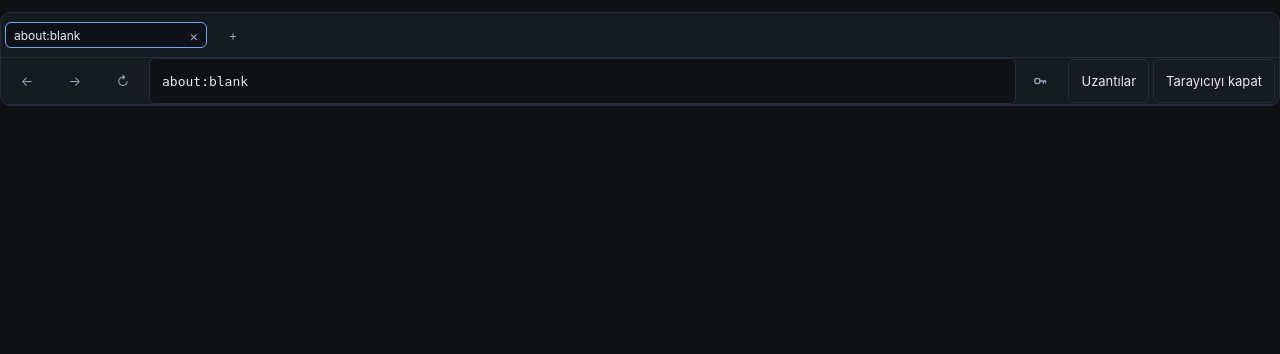
Scenario: BrowserPanel: Uzantılar › Kaldır removes one
Click the button "Uzantılar": coordinates (1109, 81) [1068,59,1149,103]
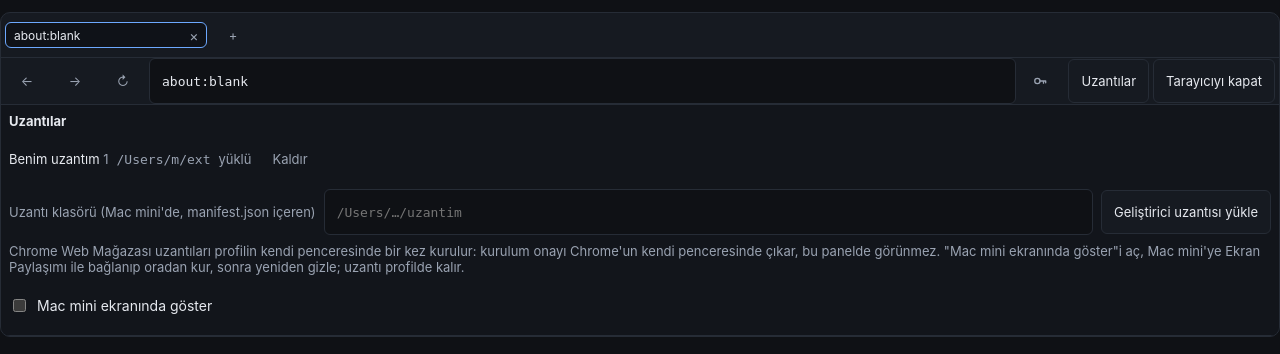
Click the button with aria-label "Kaldır: Benim uzantım": coordinates (290, 159) [259,137,321,181]
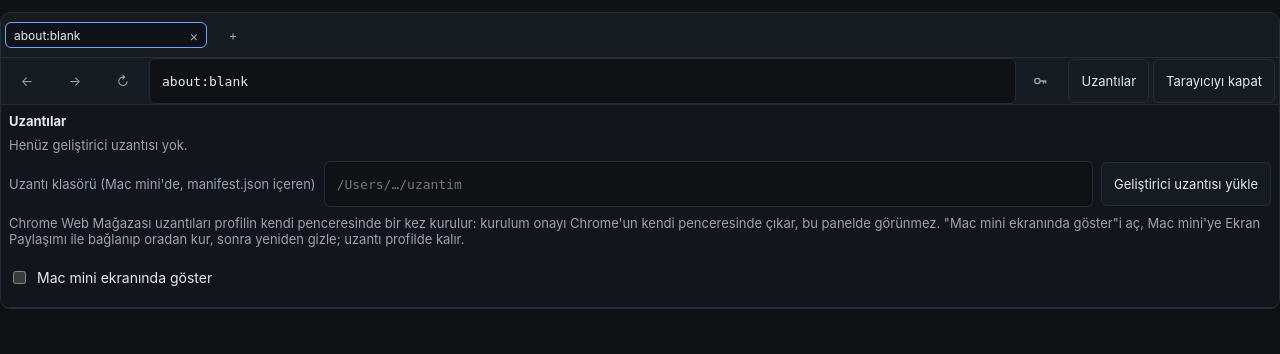
Result: no list items are shown
